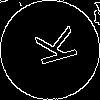K: (25, 25, 79, 70)
